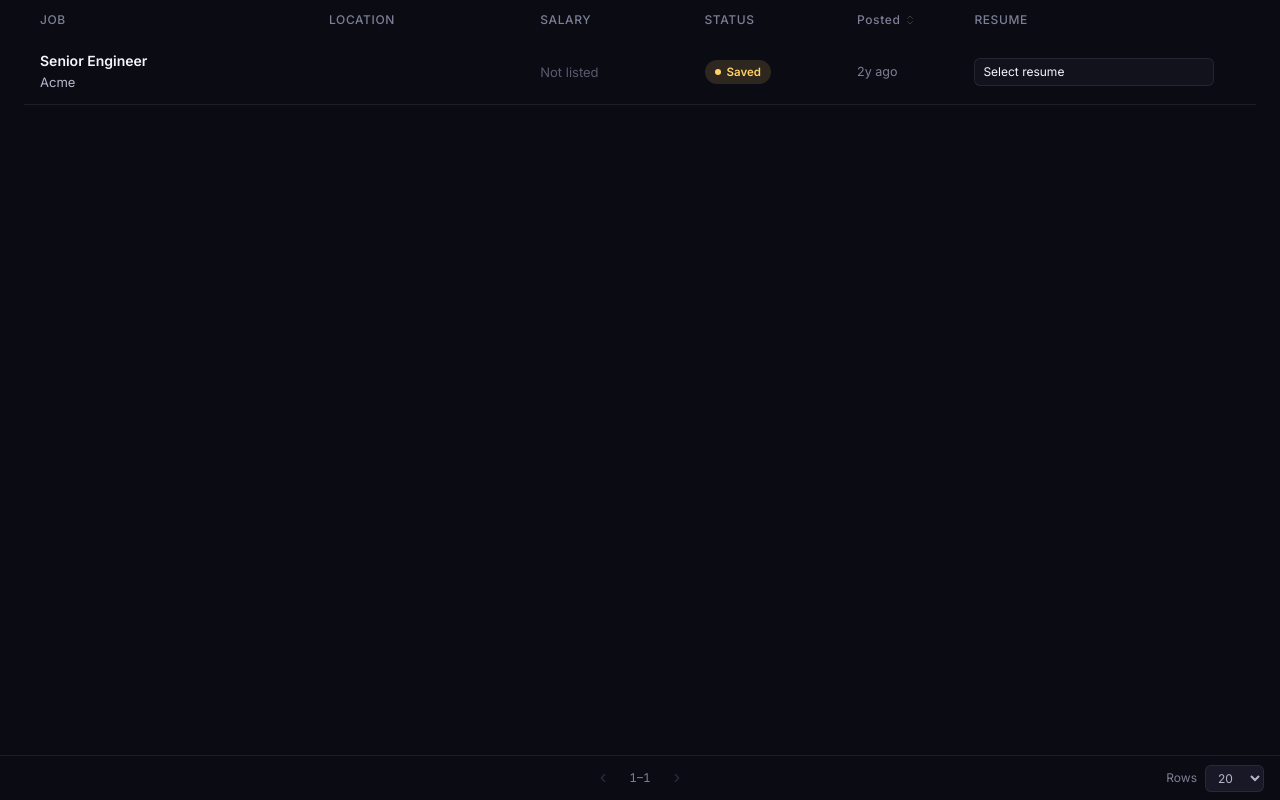
Test: ApplyQueueTable › resume-picker dialog wiring › confirms via the mutation and closes the dialog on success
Click the button "Select resume" at [1094, 72], box [974,58,1214,86]
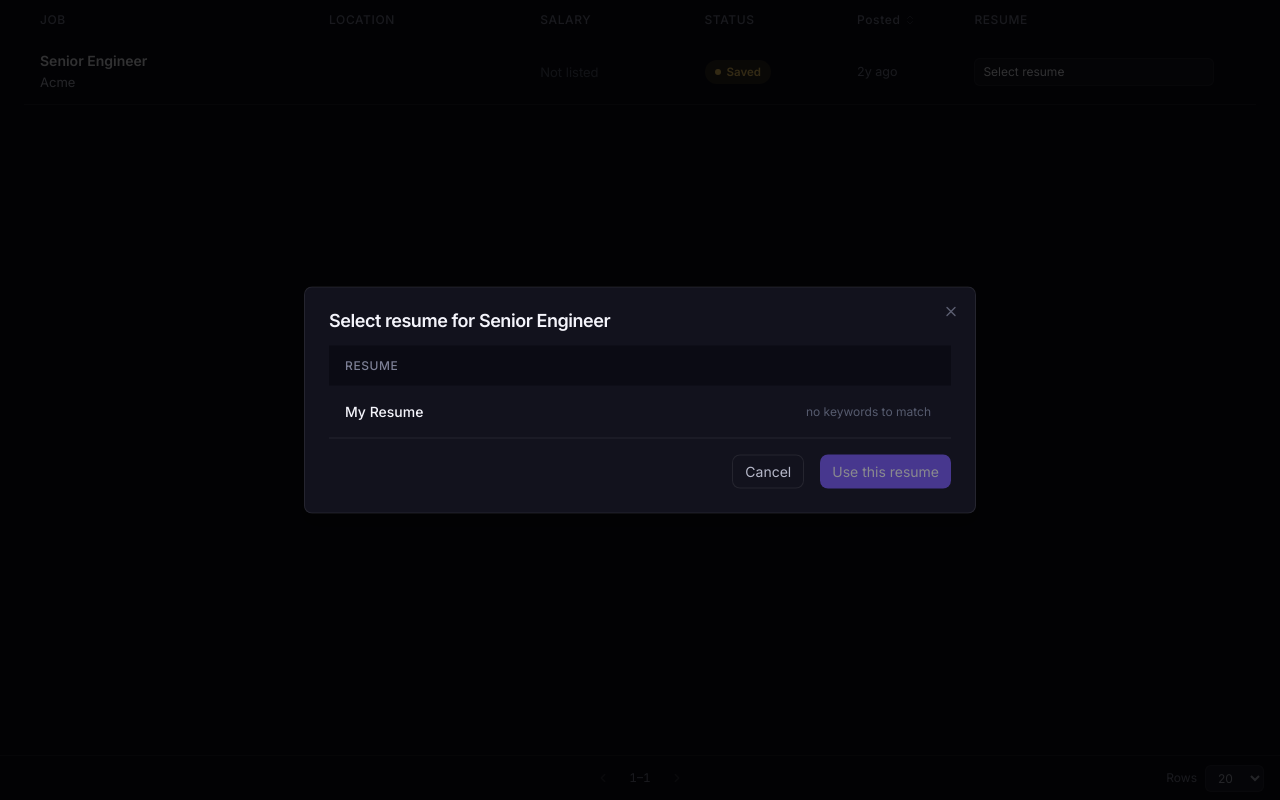
Click the text "My Resume" at [384, 411], box [345,402,423,420]
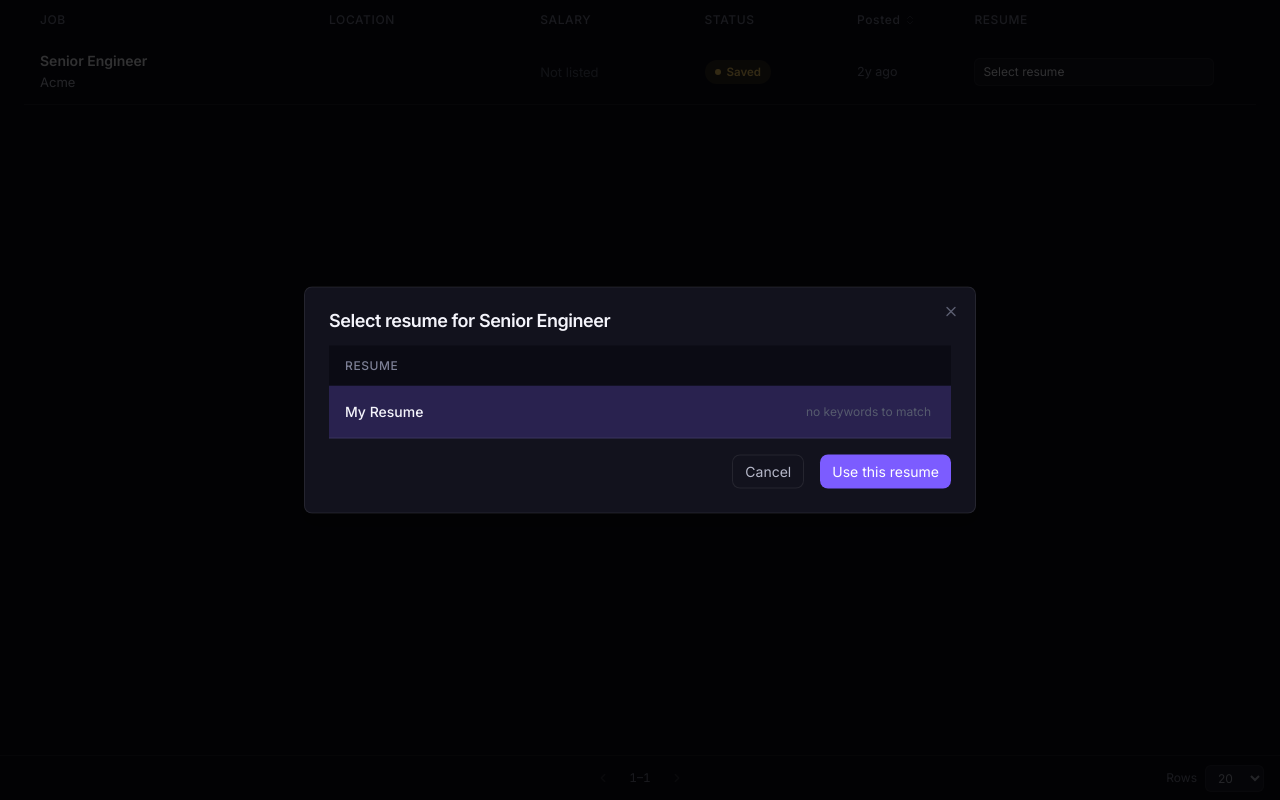
Click the button "Use this resume" at [886, 472], box [820,454,951,488]
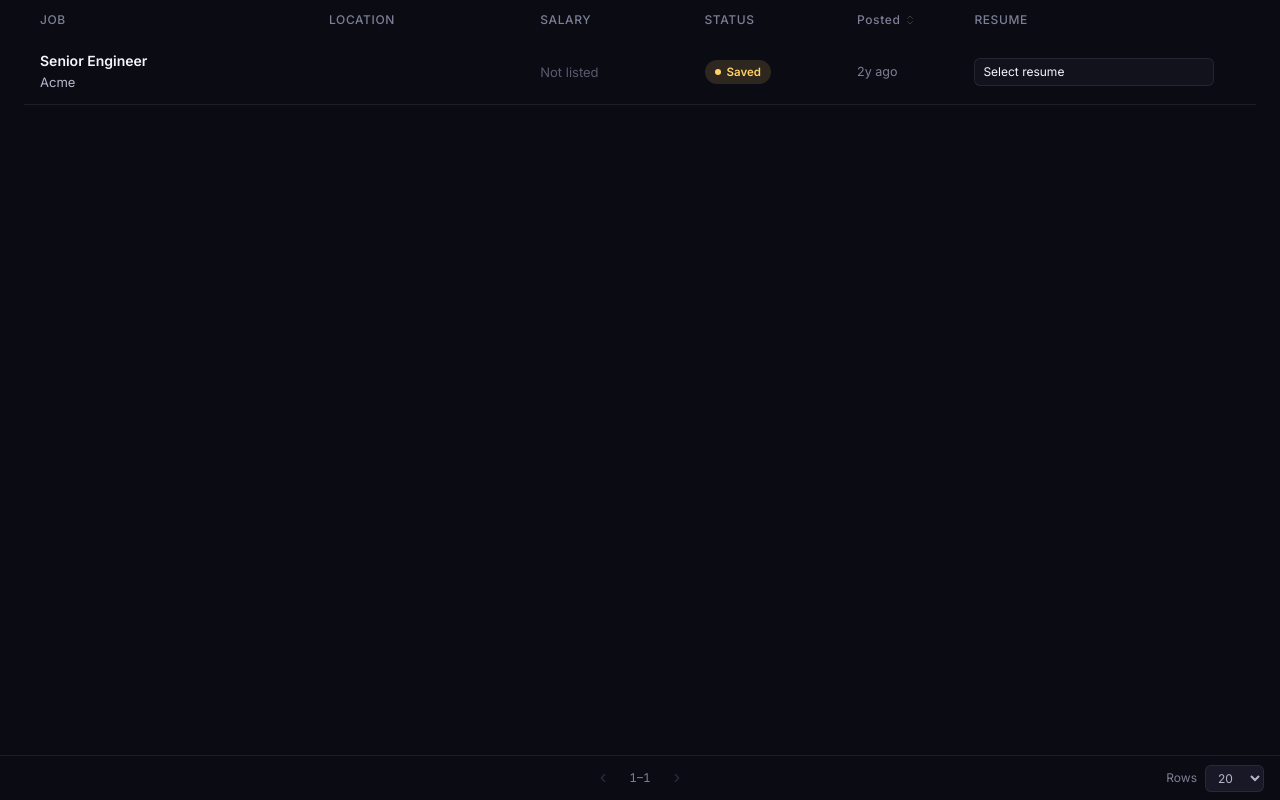
Expected: the button "Select resume" is shown, [974,58,1214,86]
Expected: the dialog is gone
